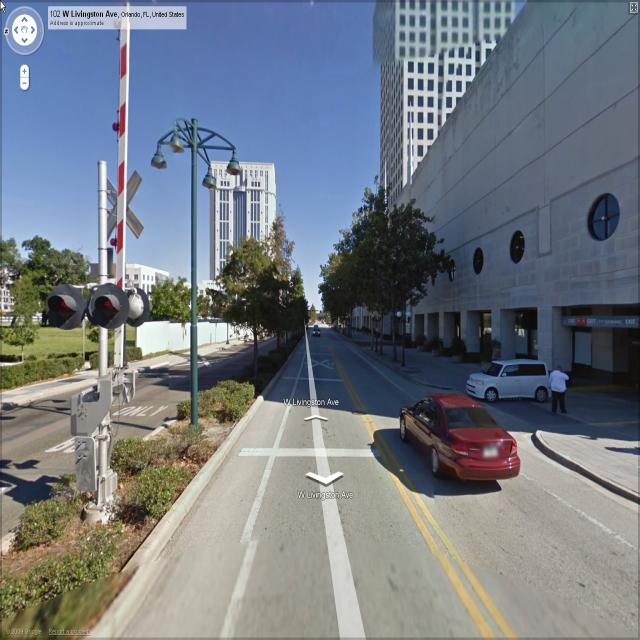b_1: (441, 14, 640, 353), (376, 9, 516, 190)
b_2: (328, 168, 472, 358), (212, 159, 300, 345), (1, 236, 83, 324), (119, 248, 204, 328)
